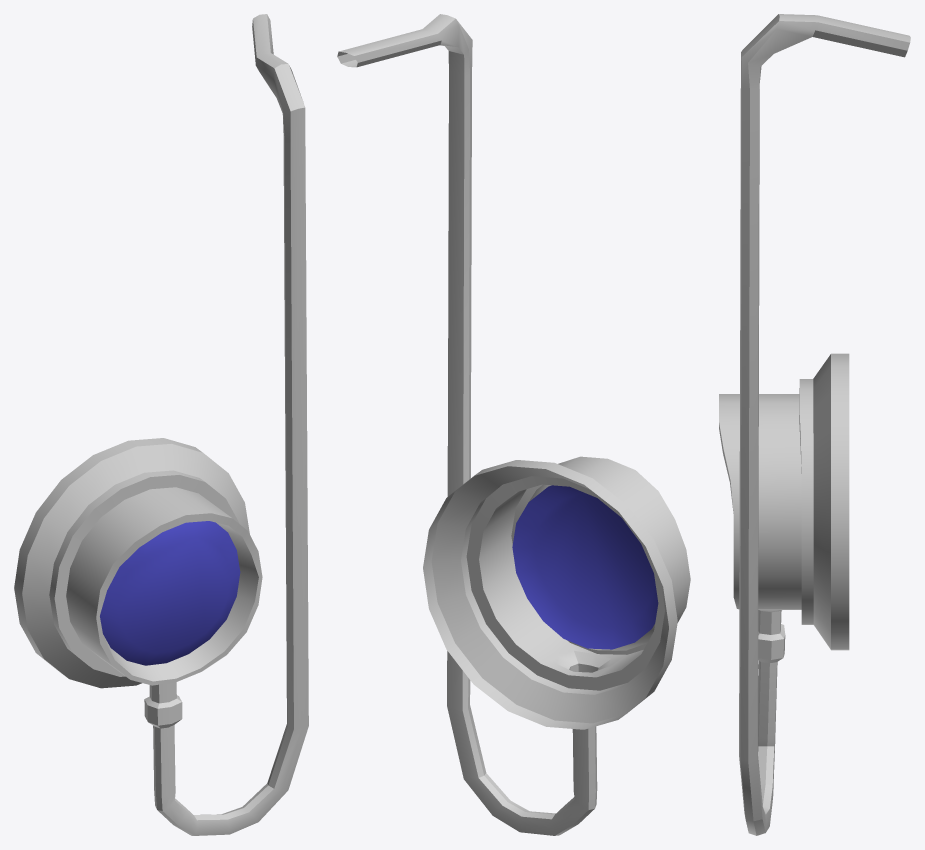
File: Wall Gauge Screen.fbx
3 renders of one model, left to right at view 1: azimuth 30°, elevation 25°; view 2: azimuth 150°, elevation 25°; view 3: azimuth 270°, elevation 25°, orthographic. The views are drawn at different scales.
Parts seen in each view (by area): view 1: Cylinder_001; view 2: Cylinder_001; view 3: Cylinder_001.
Boxes of the visible parts, x1,y1,x2,y2 form: Cylinder_001: (14, 14, 308, 835); Cylinder_001: (337, 14, 690, 835); Cylinder_001: (719, 14, 910, 835).
Size of the model in its own units: 47.36 by 120 by 24.61.
